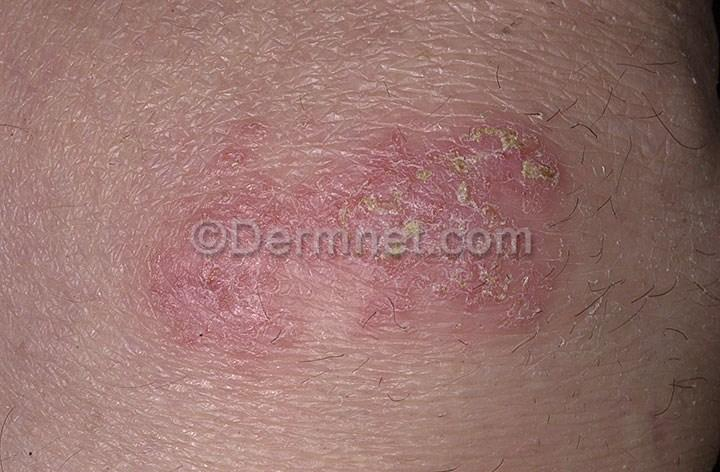Eczema: (194, 110, 584, 223), (178, 254, 565, 348)
